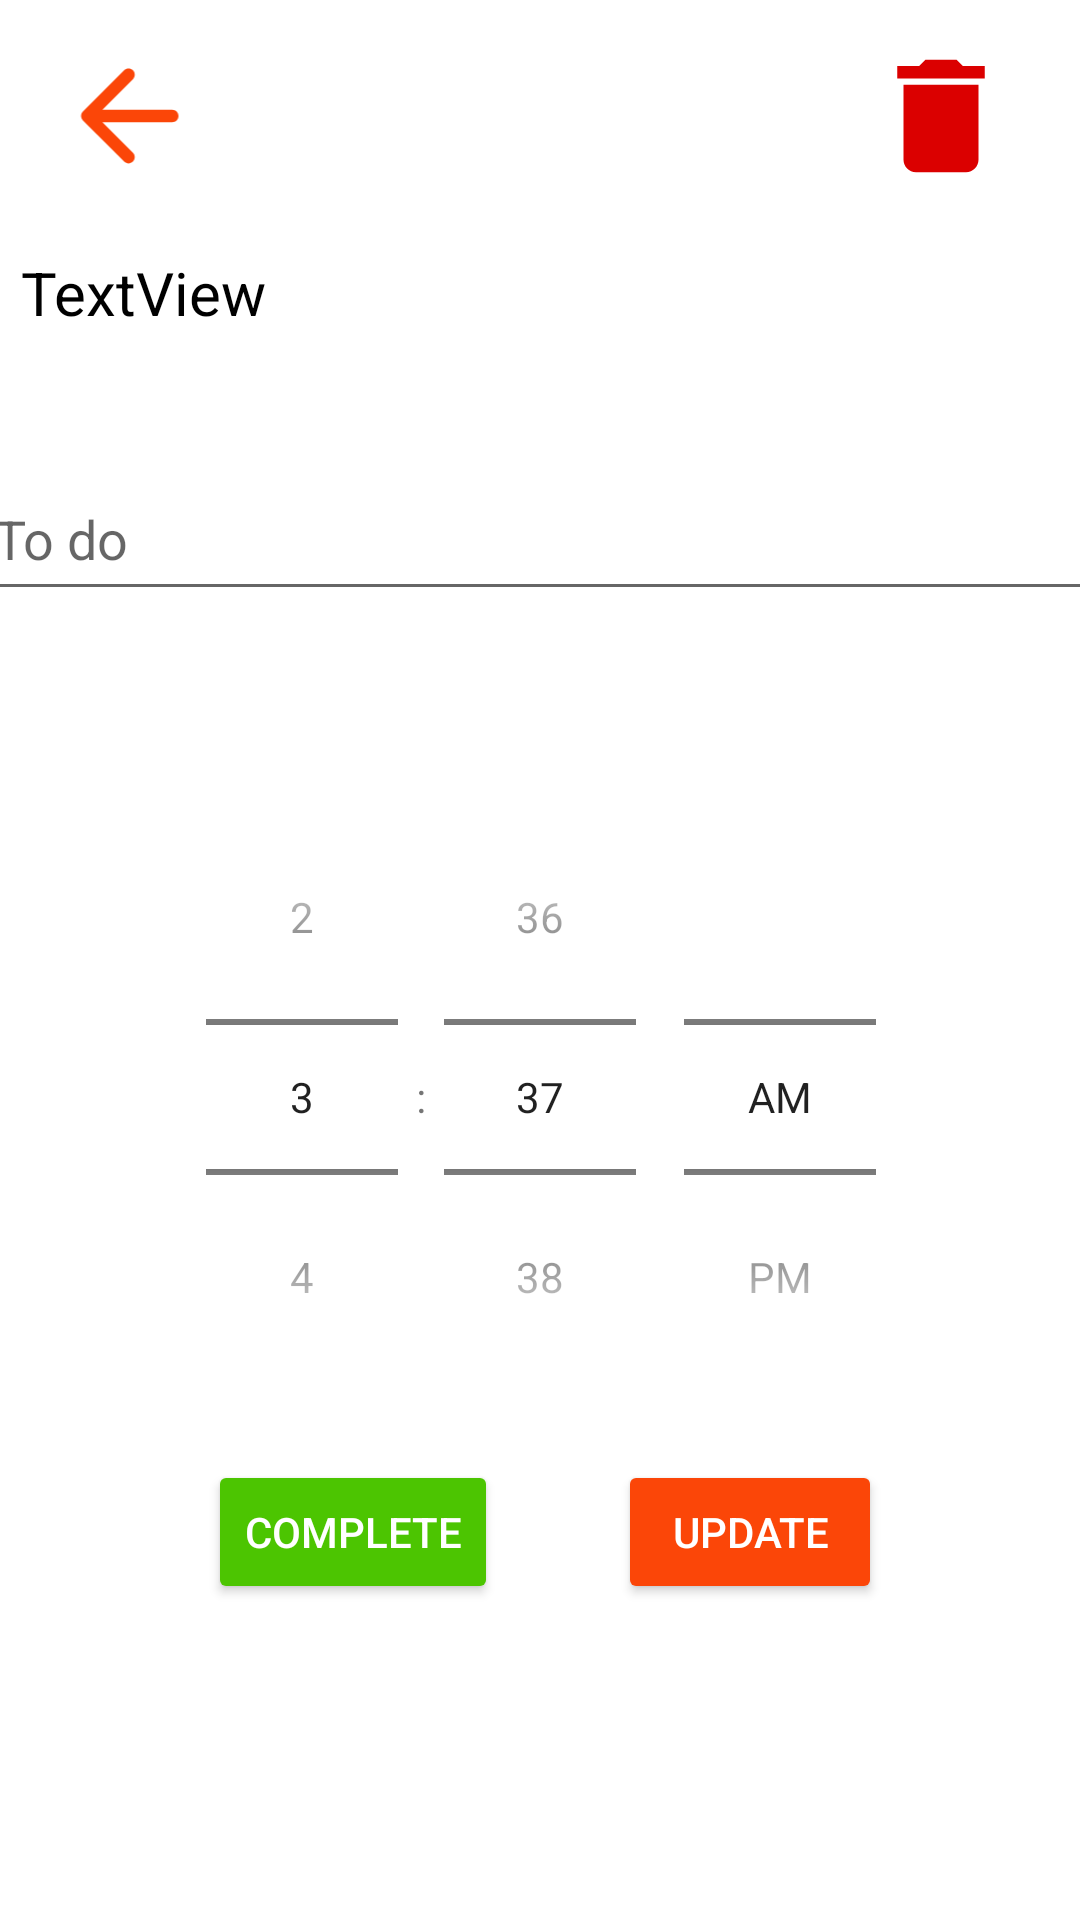

Icon click points for this 1080×1920 phone screenshot, format point (x, y):
back: point (129, 116)
delete: point (941, 116)
